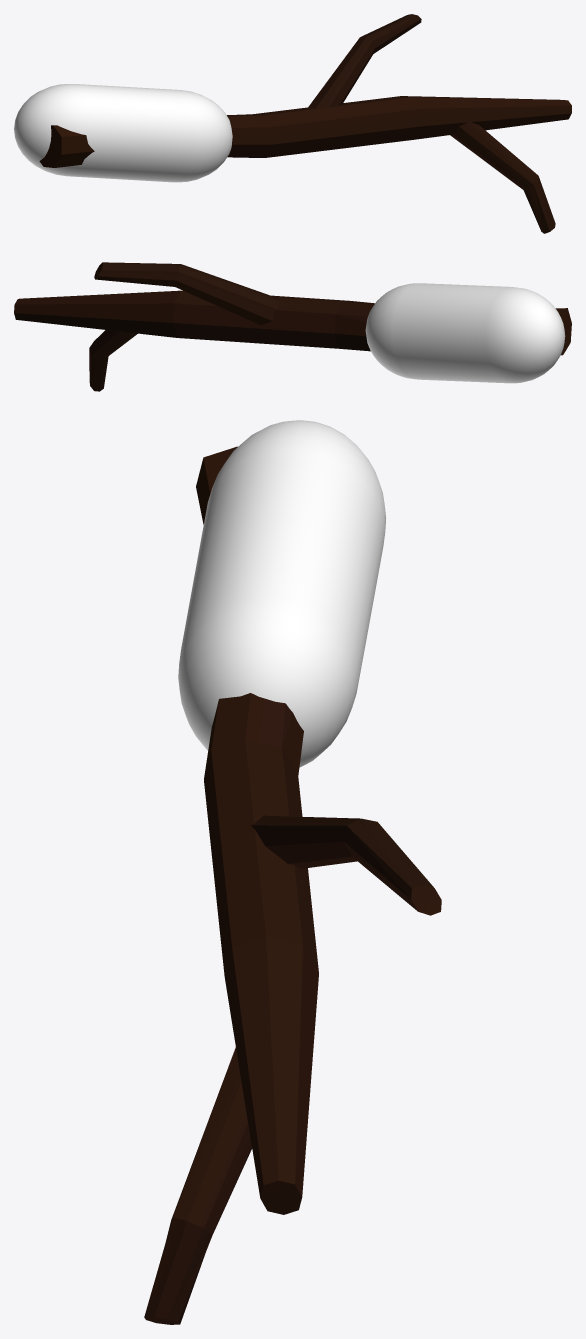
File: Mod Stick Anchor.fbx
3 views of the same model, one above another, from view 1: azimuth 30°, elevation 25°; view 2: azimuth 150°, elevation 25°; view 3: azimuth 270°, elevation 25° (orthographic). The views are drawn at different scales.
Parts seen in each view (by area): view 1: MOD_STICK, Capsule__1_; view 2: MOD_STICK, Capsule__1_; view 3: MOD_STICK, Capsule__1_.
Part boxes in pixels (box(x1,y1,x2,y2)): MOD_STICK: box(39, 14, 571, 233); Capsule__1_: box(14, 84, 232, 182); MOD_STICK: box(14, 262, 571, 391); Capsule__1_: box(365, 283, 565, 383); MOD_STICK: box(144, 446, 441, 1324); Capsule__1_: box(178, 420, 386, 767).
Size of the model in its own units: 42.42 by 17.12 by 10.07.
